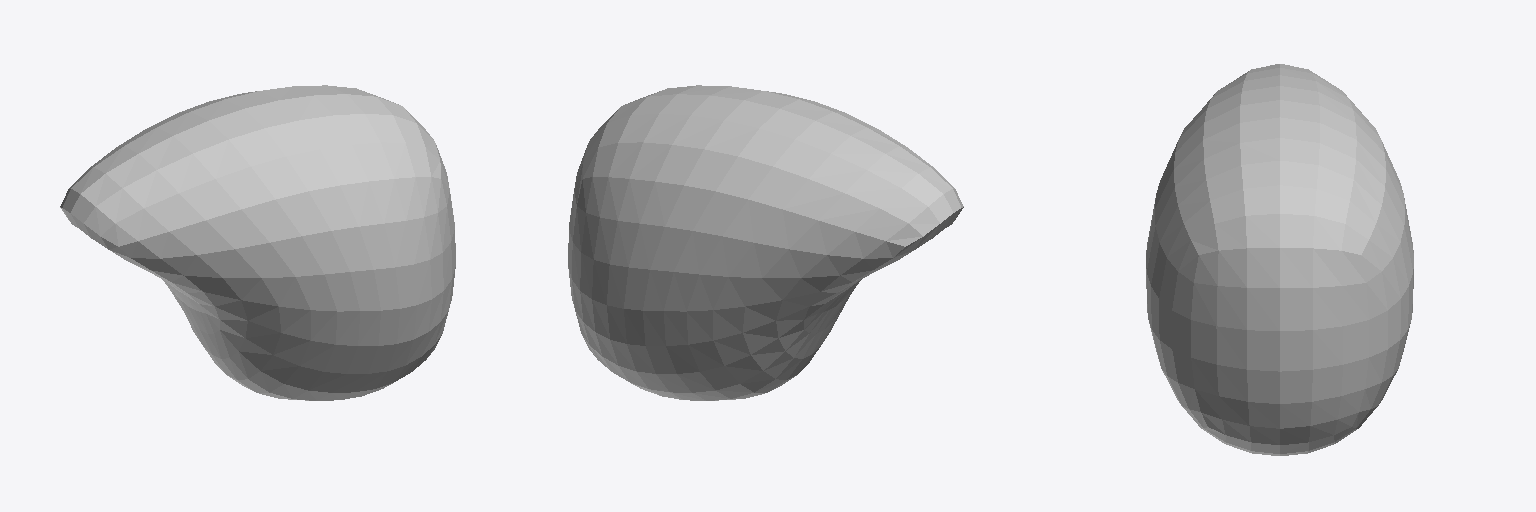
The model's file is Head.obj.
3 renders of one model, left to right at view 1: azimuth 30°, elevation 25°; view 2: azimuth 150°, elevation 25°; view 3: azimuth 270°, elevation 25°, orthographic.
Parts seen in each view (by area): view 1: head.001; view 2: head.001; view 3: head.001.
Part boxes in pixels (bbox=[...]): head.001: bbox=[60, 85, 455, 400]; head.001: bbox=[568, 85, 963, 400]; head.001: bbox=[1146, 64, 1413, 455].
Size of the model in its own units: 0.259 by 0.2002 by 0.1623.